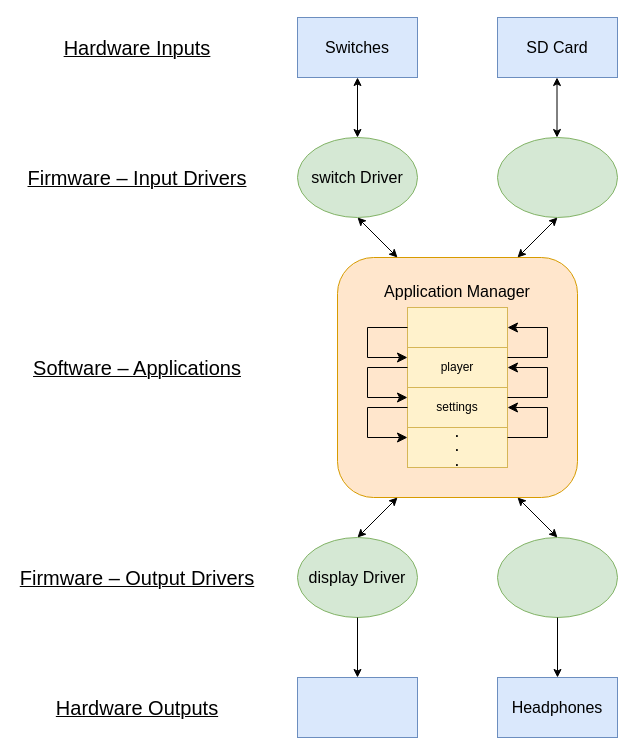
Image size: 635x755. Some labels were removed from this diagram. Each missing label, with the box of its shape:
browser: (406, 306, 508, 348)
Display: (296, 676, 418, 738)
sdCard Driver: (496, 136, 618, 218)
sound Driver: (496, 536, 618, 618)
